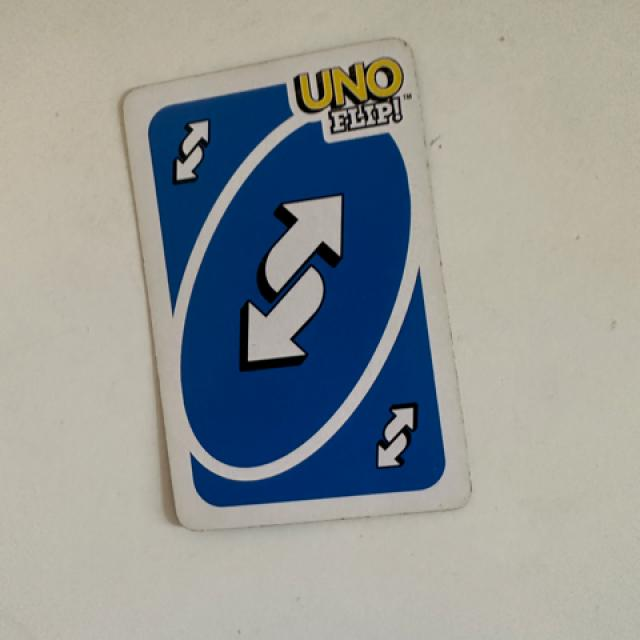lbluerevers-20: (145, 98, 234, 210)
